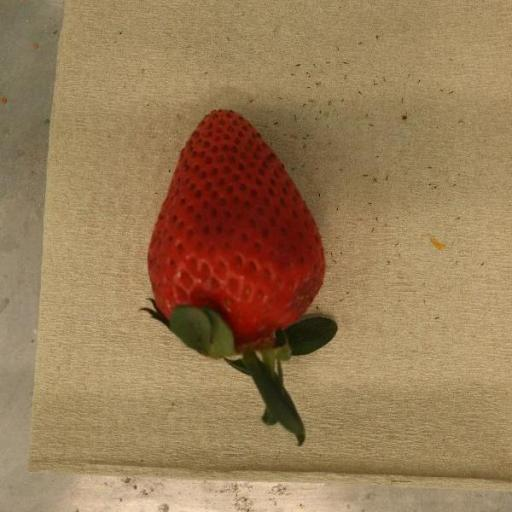Strawberry: (147, 110, 338, 447)
